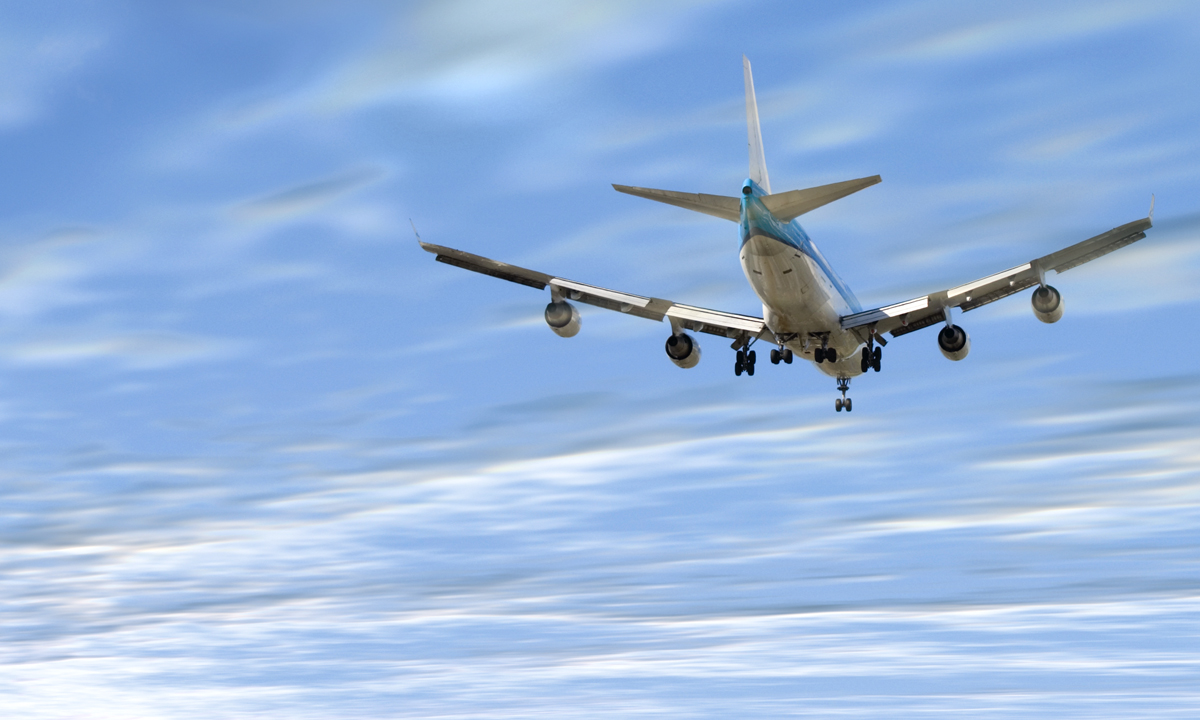plane: (414, 53, 1158, 416)
